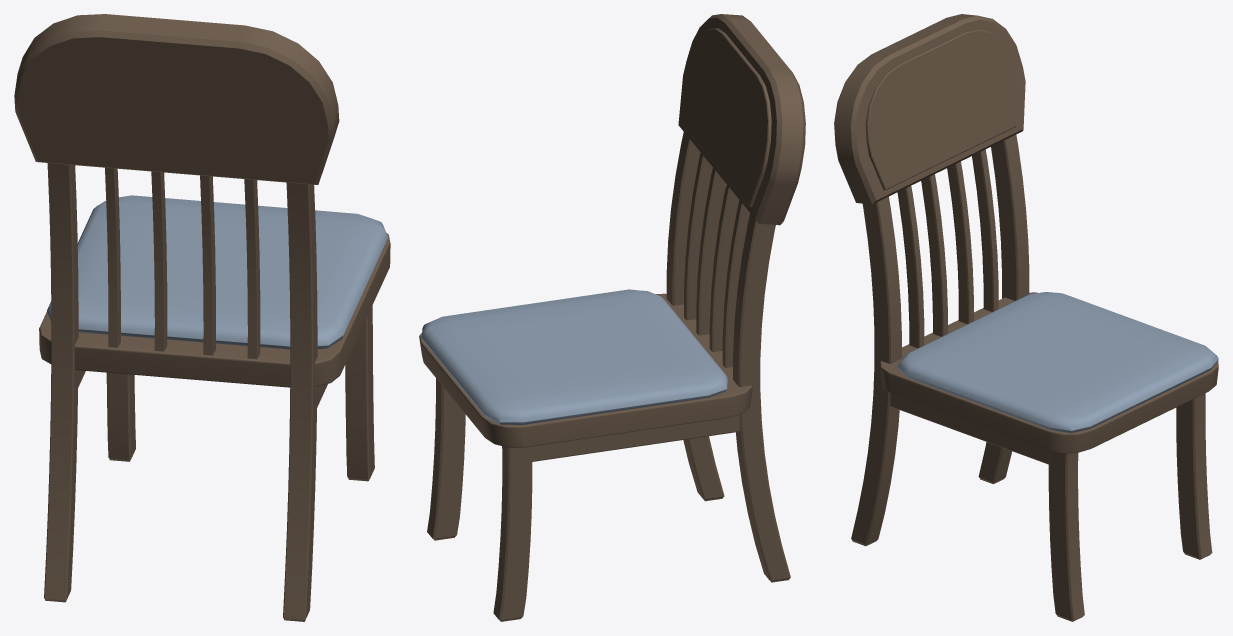
Rendered from br_chair.fbx.
3 views of the same model, side by side, from view 1: azimuth 30°, elevation 25°; view 2: azimuth 150°, elevation 25°; view 3: azimuth 270°, elevation 25° (orthographic). The views are drawn at different scales.
Visible parts, largest first — view 1: polySurface1138; view 2: polySurface1138; view 3: polySurface1138.
Boxes of the visible parts, bbox=[...] form: polySurface1138: bbox=[14, 14, 390, 621]; polySurface1138: bbox=[419, 14, 805, 621]; polySurface1138: bbox=[834, 14, 1218, 621].
Bounding box in the file's own units: 17.09 × 23.43 × 17.35.
